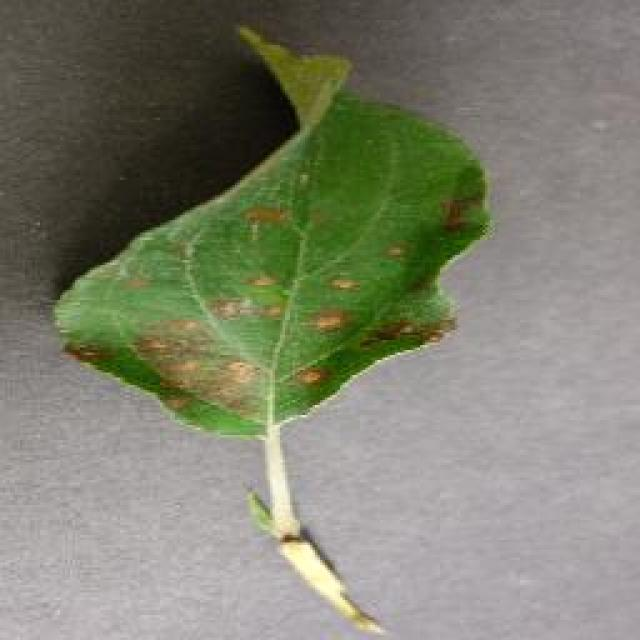Apple___Cedar_apple_rust: (53, 148, 460, 444)
